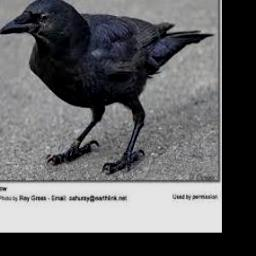Crow: (0, 0, 215, 173)
